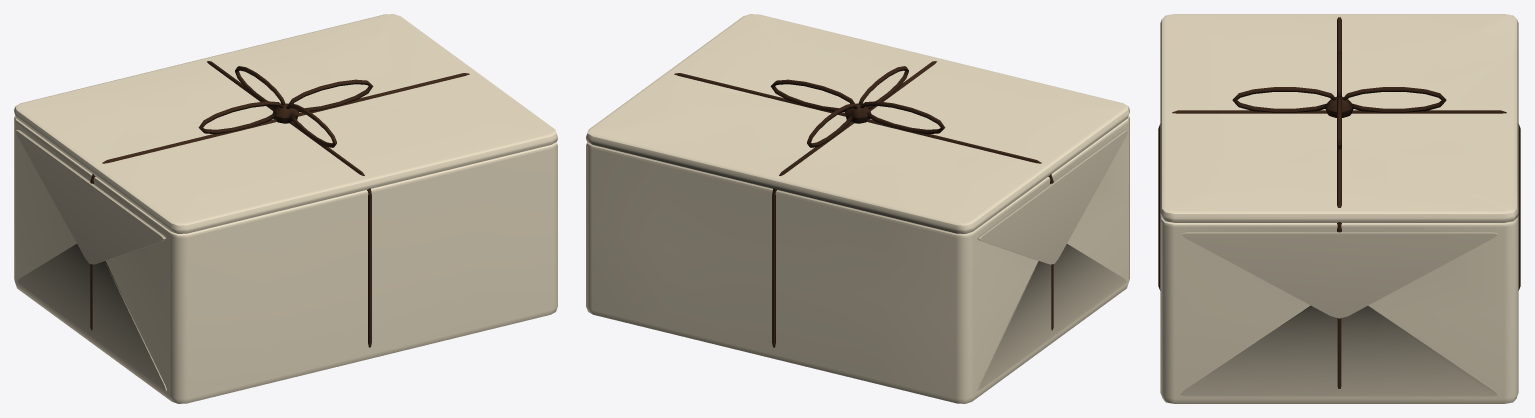
File: parcel.glb
3 renders of one model, left to right at view 1: azimuth 30°, elevation 25°; view 2: azimuth 150°, elevation 25°; view 3: azimuth 270°, elevation 25°, orthographic. The views are drawn at different scales.
Parts seen in each view (by area): view 1: Parcel_Box, Parcel_Flap, Parcel_String; view 2: Parcel_Box, Parcel_Flap, Parcel_String; view 3: Parcel_Flap, Parcel_Box, Parcel_String.
Part boxes in pixels (x1=…): Parcel_Box: x1=14, y1=116, x2=557, y2=403; Parcel_Flap: x1=14, y1=14, x2=557, y2=233; Parcel_String: x1=90, y1=61, x2=469, y2=347; Parcel_Box: x1=586, y1=116, x2=1129, y2=403; Parcel_Flap: x1=586, y1=14, x2=1129, y2=233; Parcel_String: x1=674, y1=61, x2=1053, y2=347; Parcel_Flap: x1=1160, y1=14, x2=1518, y2=222; Parcel_Box: x1=1160, y1=215, x2=1518, y2=403; Parcel_String: x1=1158, y1=17, x2=1520, y2=388.
Size of the model in its own units: 0.12 by 0.0598 by 0.0898.
